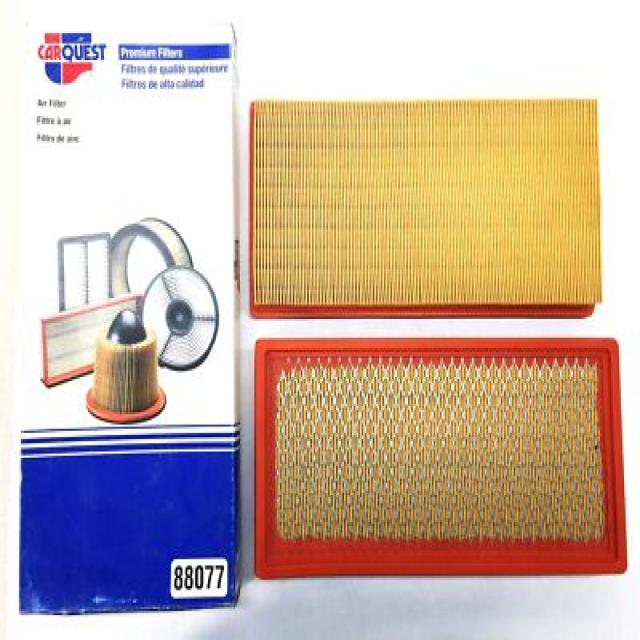air_filter: (248, 331, 629, 585), (244, 87, 606, 323)
